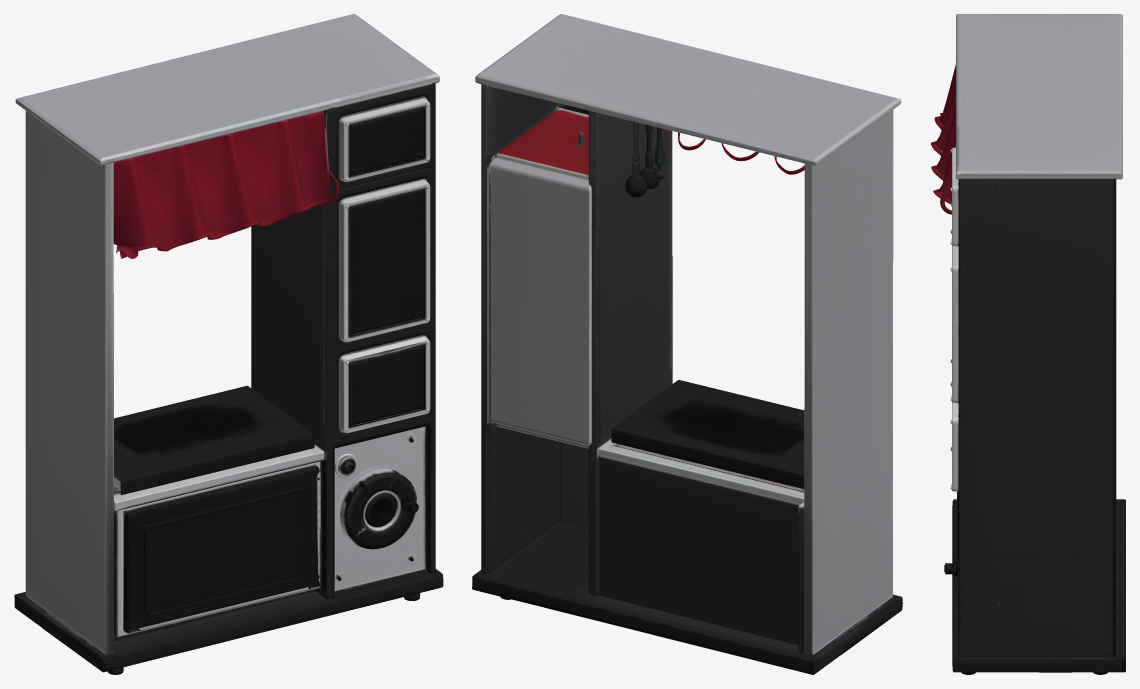
File: toonstudio_photo_booth.glb
3 renders of one model, left to right at view 1: azimuth 30°, elevation 25°; view 2: azimuth 150°, elevation 25°; view 3: azimuth 270°, elevation 25°, orthographic. The views are drawn at different scales.
Visible parts, largest first — view 1: bb602243_5786_48f8_a2e6_bb8d57edad85; view 2: bb602243_5786_48f8_a2e6_bb8d57edad85; view 3: bb602243_5786_48f8_a2e6_bb8d57edad85.
Part boxes in pixels (x1,y1,x2,y2): bb602243_5786_48f8_a2e6_bb8d57edad85: [14, 14, 443, 674]; bb602243_5786_48f8_a2e6_bb8d57edad85: [472, 14, 902, 674]; bb602243_5786_48f8_a2e6_bb8d57edad85: [931, 14, 1125, 674].
Bounding box in the file's own units: 1.51 × 2.2 × 0.762.
Materials: 1 (1 with a texture image).
